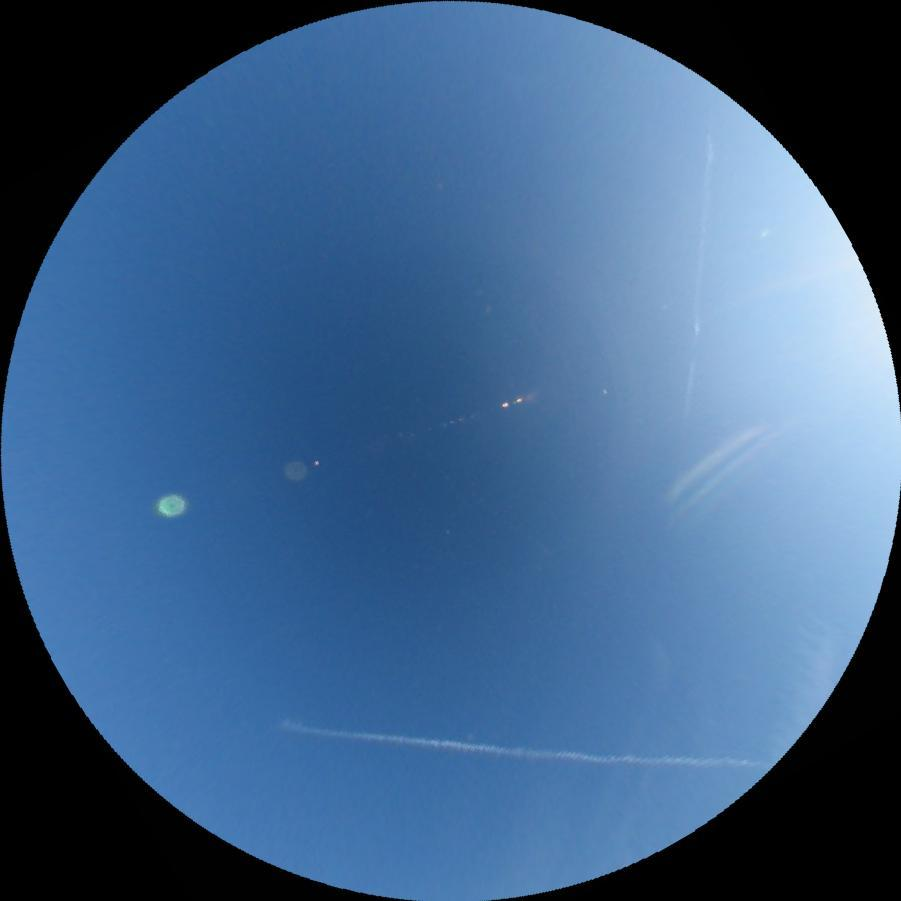contrail old: (275, 718, 768, 777), (680, 128, 717, 421)
parasite: (654, 411, 774, 507)
